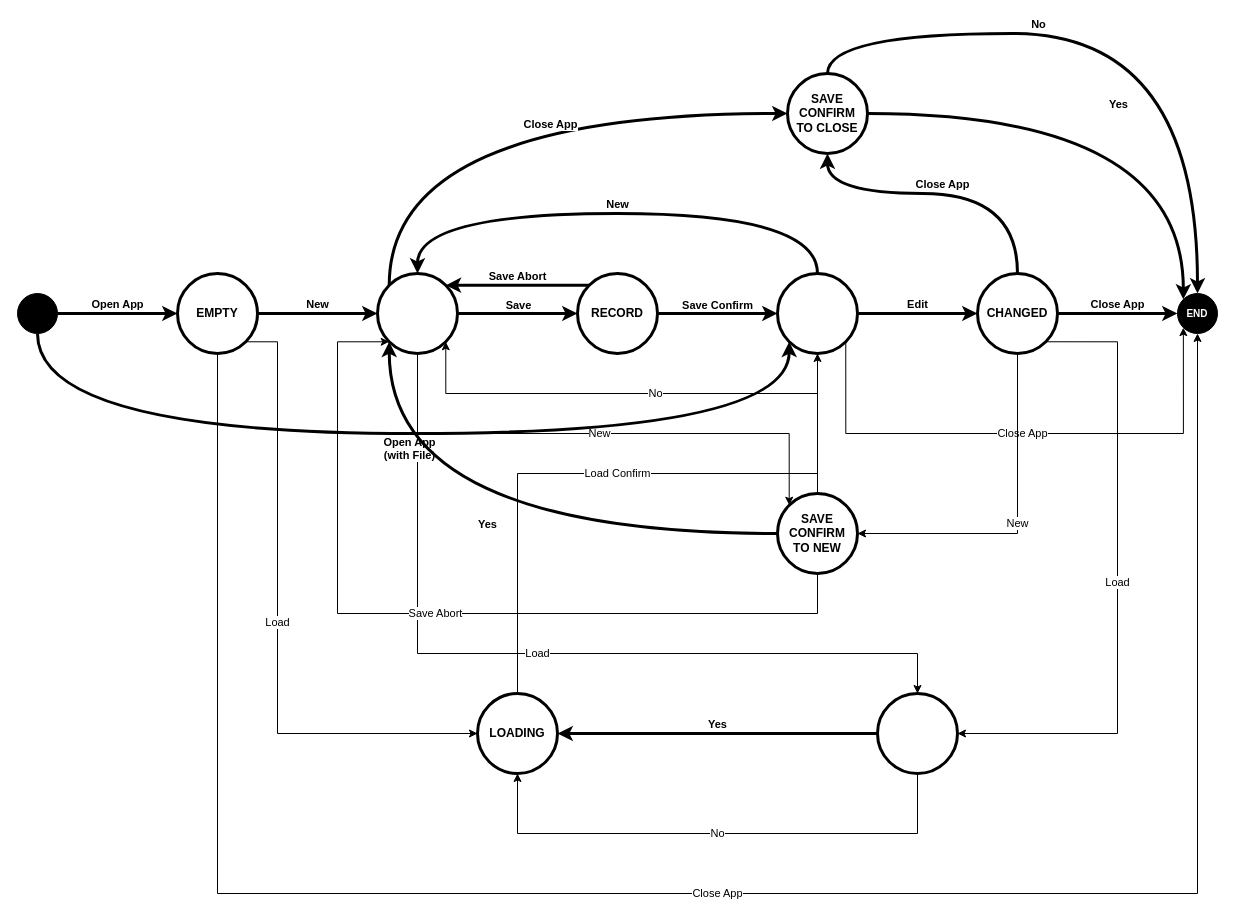
Some shapes in this 1235 by 919 pixel diagram are drawn without their labels. The box of each missing label's shape, as (x1, y1, x2, y2) in pixels:
FRESH: (376, 272, 458, 354)
SAVE CONFIRM TO LOAD: (876, 692, 958, 774)
START: (16, 292, 58, 334)
SYNCHED: (776, 272, 858, 354)
